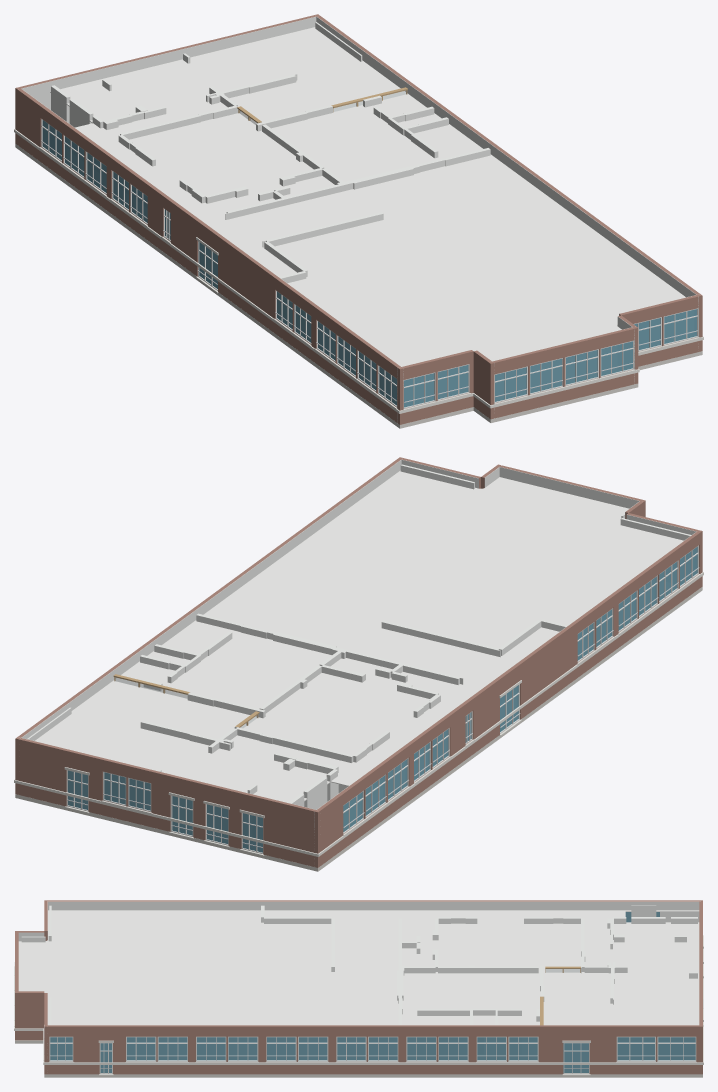
File: hall_1F.glb
3 renders of one model, top to bottom at view 1: azimuth 30°, elevation 25°; view 2: azimuth 150°, elevation 25°; view 3: azimuth 270°, elevation 25°, orthographic. The views are drawn at different scales.
Visible parts, largest first — view 1: hall_1F__ceil, hall_1F__brick, hall_1F__wallIn, hall_1F__glass, hall_1F__frameW, hall_1F__white, hall_1F__corrFloor, hall_1F__rail; view 2: hall_1F__ceil, hall_1F__brick, hall_1F__wallIn, hall_1F__glass, hall_1F__frameW, hall_1F__white, hall_1F__corrFloor, hall_1F__rail; view 3: hall_1F__ceil, hall_1F__brick, hall_1F__wallIn, hall_1F__glass, hall_1F__frameW, hall_1F__white, hall_1F__corrFloor, hall_1F__rail.
Boxes of the visible parts, left/top/right/bottom form: hall_1F__ceil: left=50, top=27, right=685, bottom=366; hall_1F__brick: left=15, top=14, right=702, bottom=424; hall_1F__wallIn: left=21, top=16, right=698, bottom=422; hall_1F__glass: left=42, top=120, right=696, bottom=407; hall_1F__frameW: left=41, top=119, right=698, bottom=408; hall_1F__white: left=14, top=129, right=703, bottom=413; hall_1F__corrFloor: left=15, top=144, right=702, bottom=428; hall_1F__rail: left=41, top=140, right=698, bottom=402; hall_1F__ceil: left=35, top=470, right=683, bottom=802; hall_1F__brick: left=15, top=457, right=702, bottom=867; hall_1F__wallIn: left=19, top=459, right=698, bottom=866; hall_1F__glass: left=68, top=547, right=697, bottom=852; hall_1F__frameW: left=66, top=545, right=698, bottom=853; hall_1F__white: left=14, top=572, right=703, bottom=856; hall_1F__corrFloor: left=15, top=587, right=702, bottom=871; hall_1F__rail: left=67, top=567, right=699, bottom=847; hall_1F__ceil: left=18, top=910, right=699, bottom=1025; hall_1F__brick: left=15, top=900, right=702, bottom=1074; hall_1F__wallIn: left=18, top=901, right=700, bottom=1043; hall_1F__glass: left=50, top=912, right=695, bottom=1073; hall_1F__frameW: left=49, top=1036, right=696, bottom=1074; hall_1F__white: left=14, top=935, right=703, bottom=1075; hall_1F__corrFloor: left=15, top=1040, right=702, bottom=1077; hall_1F__rail: left=14, top=962, right=703, bottom=1068.
Bounding box in the file's own units: 20.64 × 3.85 × 47.24.
